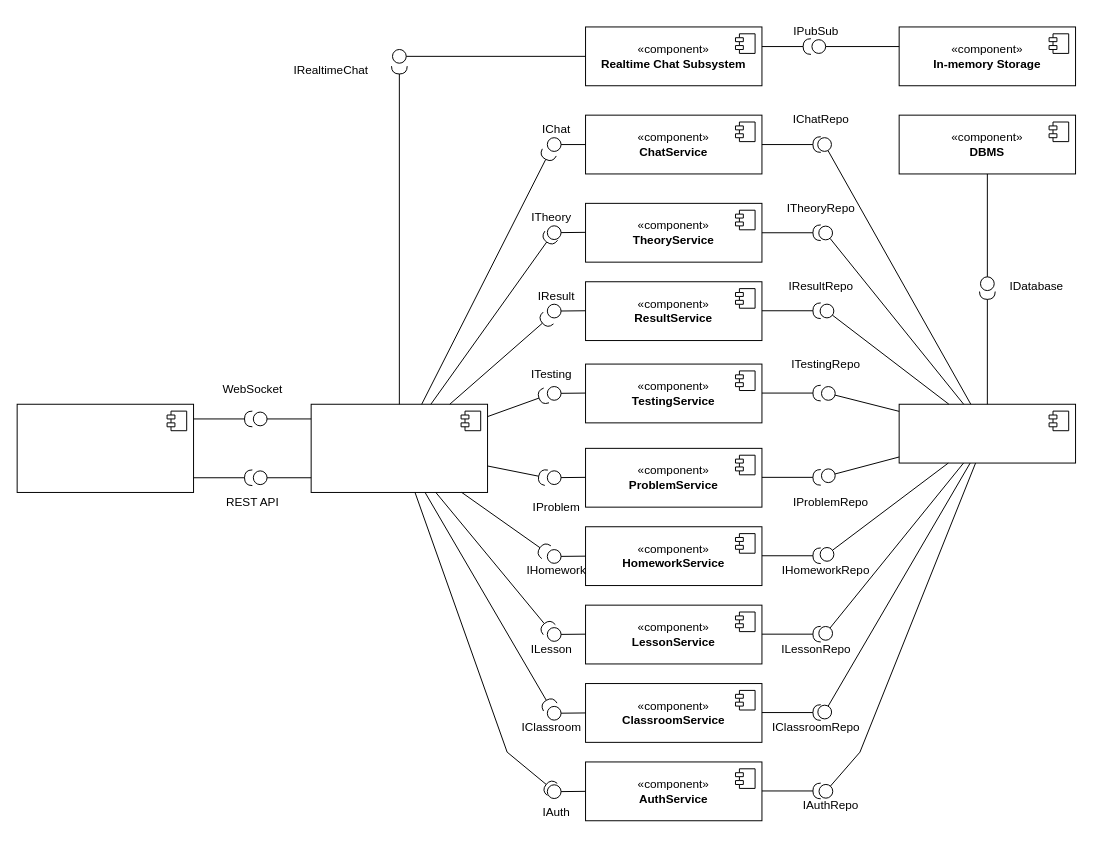
Image size: 1093x844. Some labels were removed from this diagram. The centre of each missing label's shape, as x and y in pixels:
«component» API Controller: the point at 399,447
«component» GUI: the point at 105,447
«component» Repositories: the point at 987,433
